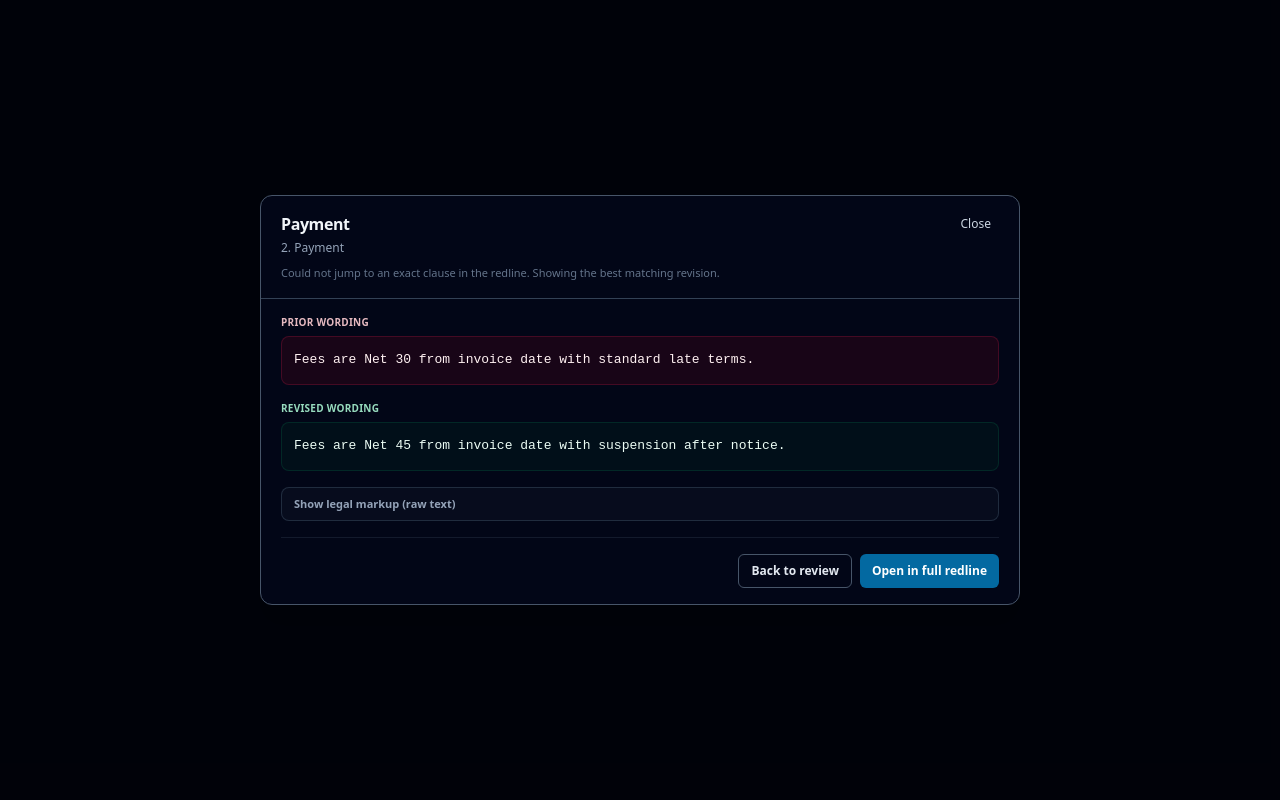
Test: Open in full redline (integration harness) › from focused dialog: opens audit details, scrollport exists, scroll reaches payment anchor
Click the button with test id "recipient-focused-wording-open-redline" at (929,571), box [860, 554, 999, 588]
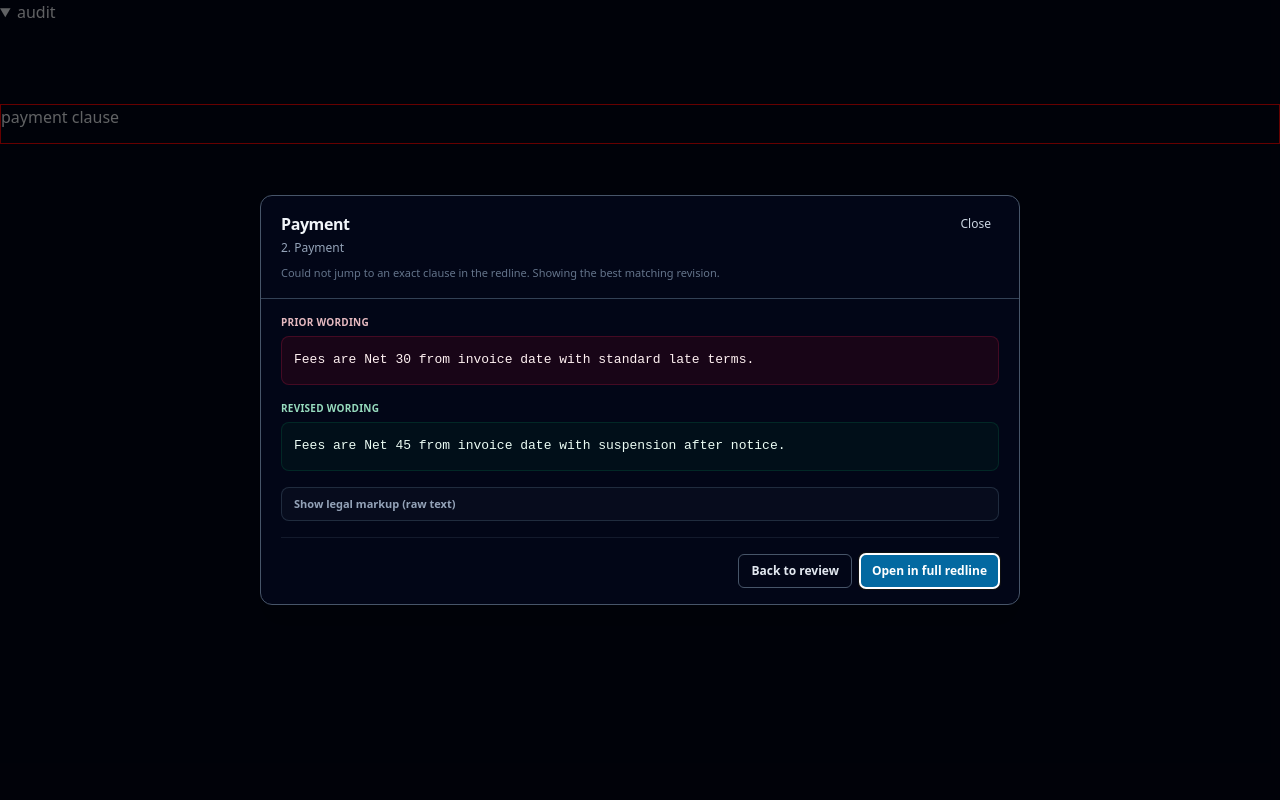
Check: the element with test id "recipient-audit-mode-details" is shown, box [0, 0, 1279, 144]
Check: the element with test id "recipient-redline-scrollport" is shown, box [0, 104, 1279, 144]
